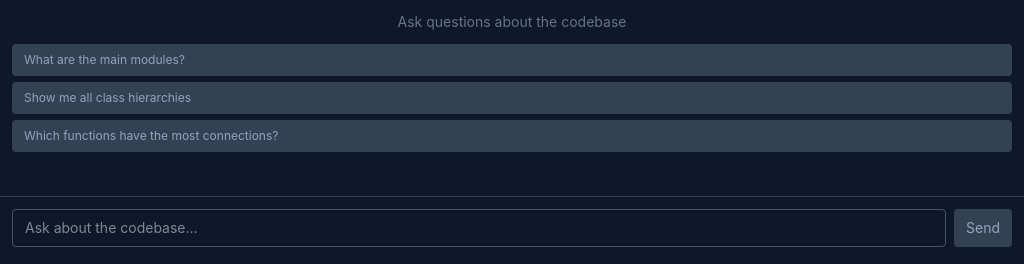
Scenario: ChatPanel › clicking suggestion populates input
This screenshot has width=1024, height=264.
Click the button "What are the main modules?" at point(104, 60), box [12,44,1012,76]
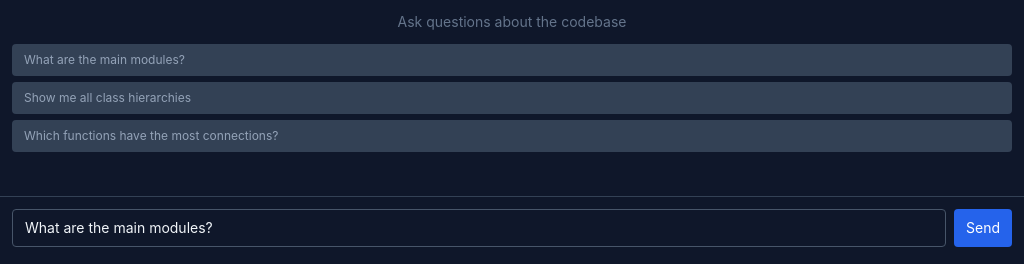
Expected: the field with placeholder "Ask about the codebase..." holds "What are the main modules?", [12,209,946,247]
